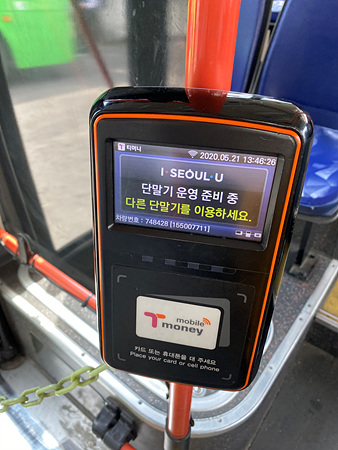terminal: (93, 87, 279, 391)
